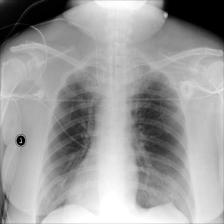normal: (34, 64, 197, 223)
